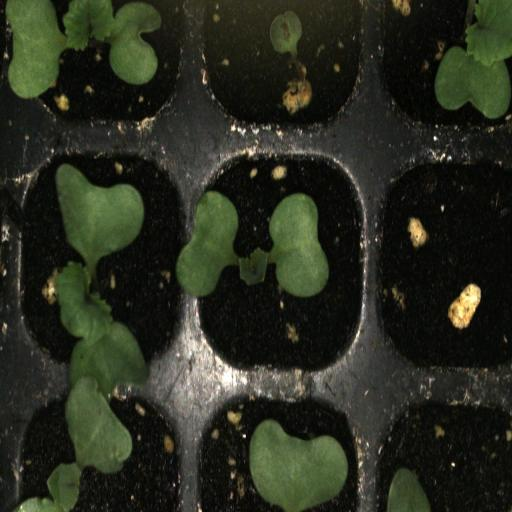Folha: (387, 468, 431, 512)
Germinacao: (189, 144, 376, 382), (10, 146, 195, 382), (187, 0, 374, 142), (14, 0, 188, 142), (377, 0, 512, 146)
